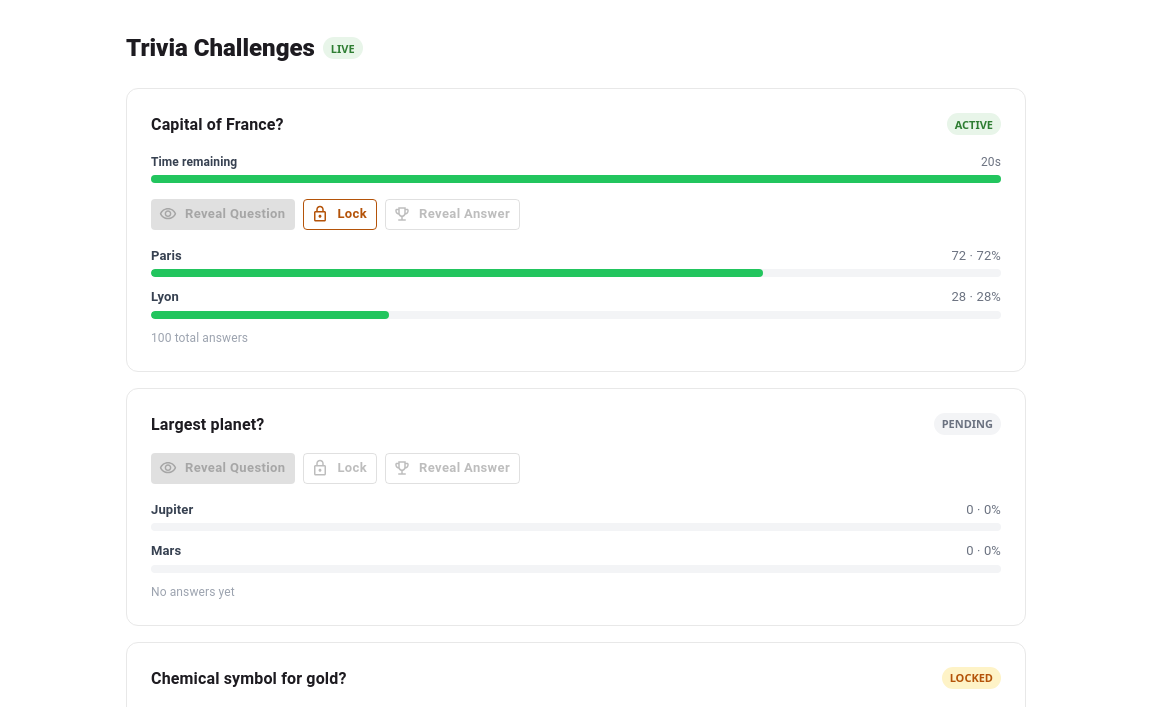
Test: TriviaLiveDashboard › locks an active question and optimistically reflects the locked state
Expected: the text "Capital of France?" is shown, [151,115,284,134]
Click the button "Lock" below "Time remaining": [340, 214] box [303,199,377,230]
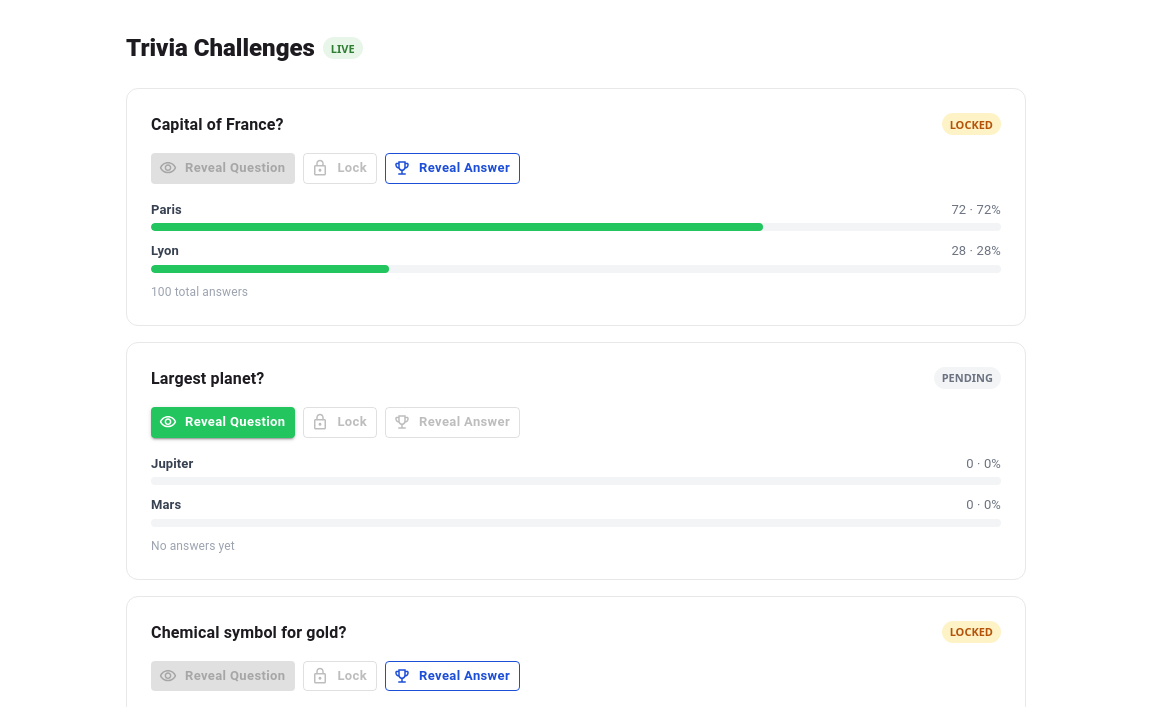
Now the element with test id "question-state-q1" reads "LOCKED", box [950,116,993,132]
